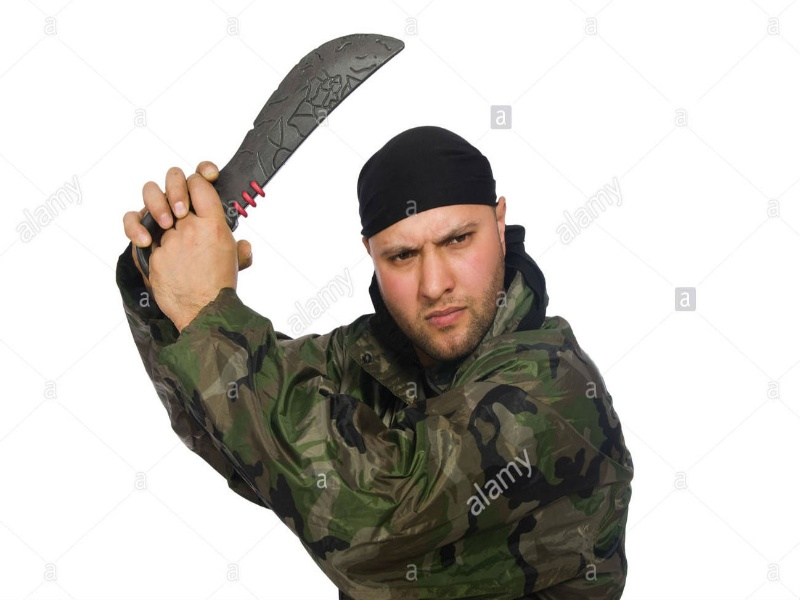hand: (121, 160, 252, 316)
knife: (219, 32, 405, 226)
person: (115, 125, 634, 600)
